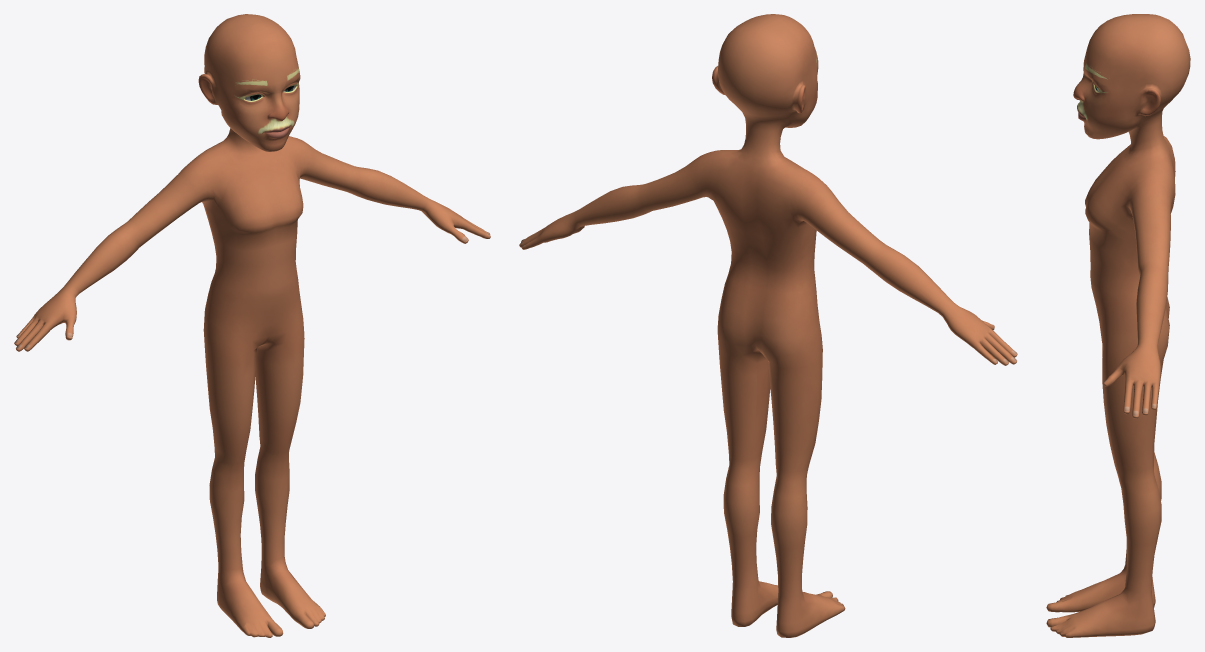
The model's file is frame_0052.glb.
3 views of the same model, side by side, from view 1: azimuth 30°, elevation 25°; view 2: azimuth 150°, elevation 25°; view 3: azimuth 270°, elevation 25° (orthographic). The views are drawn at different scales.
Visible parts, largest first — view 1: frame_0052_head_geo; view 2: frame_0052_head_geo; view 3: frame_0052_head_geo.
Part boxes in pixels (x1,y1,x2,y2): frame_0052_head_geo: (14, 14, 490, 637); frame_0052_head_geo: (519, 14, 1017, 637); frame_0052_head_geo: (1046, 14, 1190, 637).
Size of the model in its own units: 1.28 by 1.5 by 0.3253.
3 materials, 3 textured.
